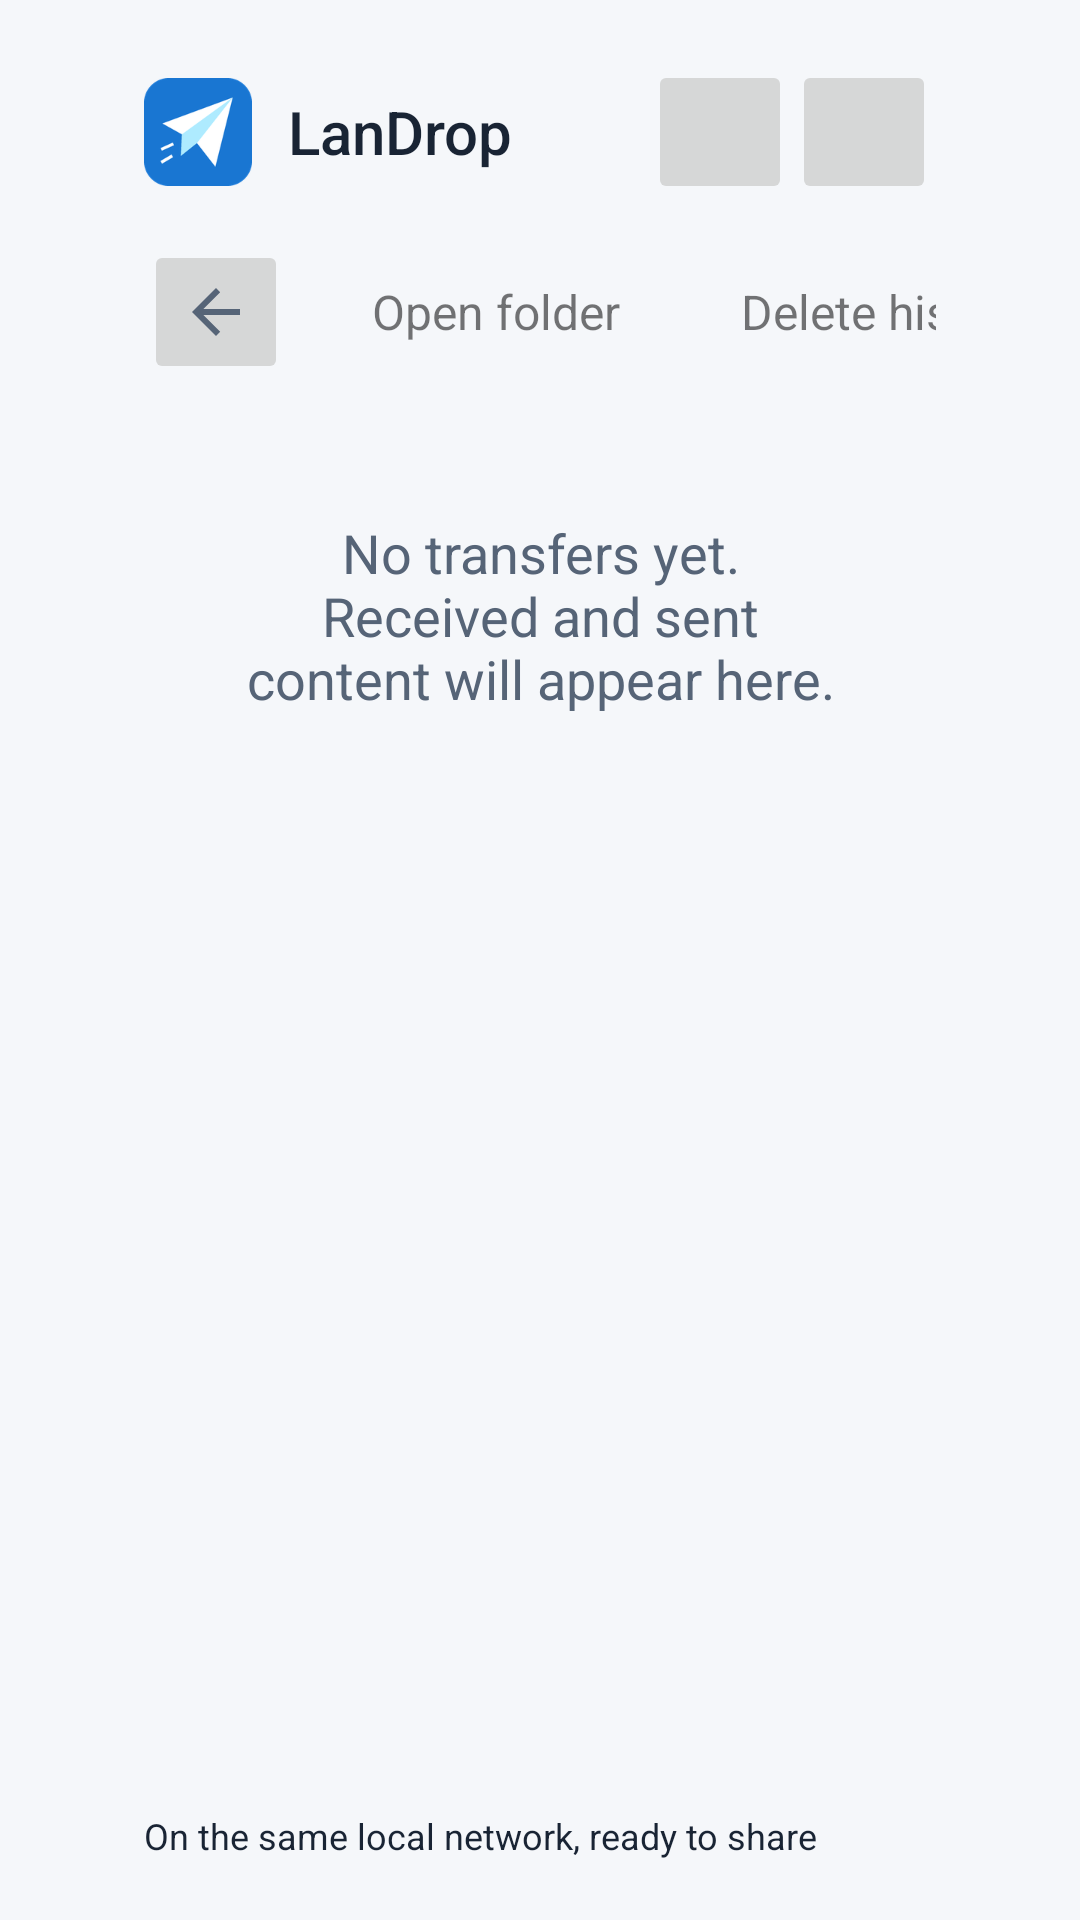

Named icons in this screenshot (1080*1920) and their bounding boxes, {"left": x1, "top": y1, "right": x2, "bottom": y2}:
Back: {"left": 156, "top": 258, "right": 276, "bottom": 366}
